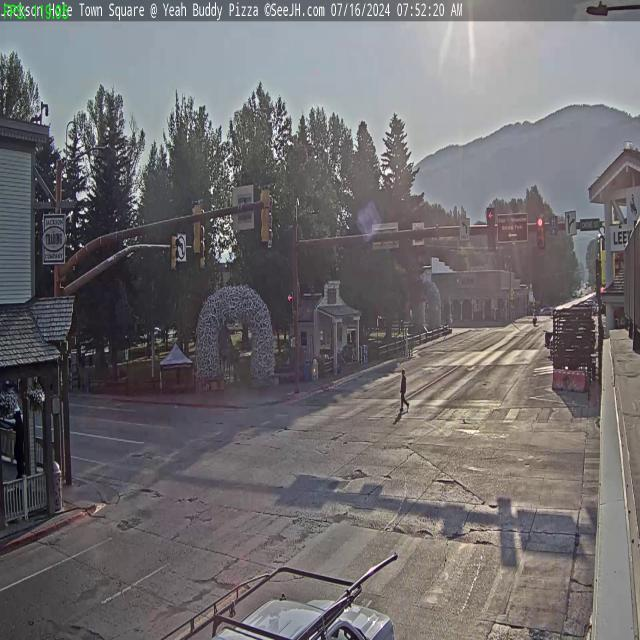person: (397, 366, 408, 422)
traffic light: (259, 184, 272, 246), (190, 200, 203, 256), (486, 208, 496, 254), (171, 233, 179, 272), (536, 215, 544, 248)
